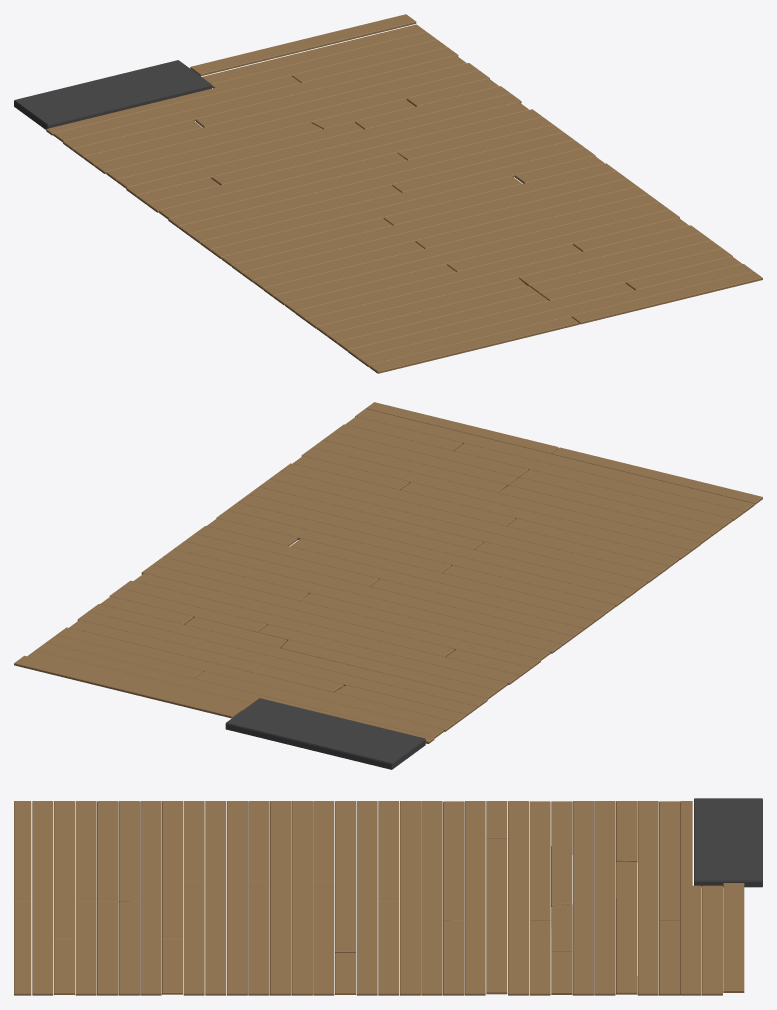
Rendered from geo_Parquet.fbx.
The picture shows the model from 3 angles, top to bottom: view 1: azimuth 30°, elevation 25°; view 2: azimuth 150°, elevation 25°; view 3: azimuth 270°, elevation 25°; orthographic projection. The views are drawn at different scales.
Visible parts, largest first — view 1: geo_parquet; view 2: geo_parquet; view 3: geo_parquet.
Part boxes in pixels (x1=…): geo_parquet: x1=14, y1=14, x2=762, y2=373; geo_parquet: x1=14, y1=402, x2=762, y2=769; geo_parquet: x1=14, y1=798, x2=762, y2=995.
Bounding box in the file's own units: 537 × 8.71 × 883.
